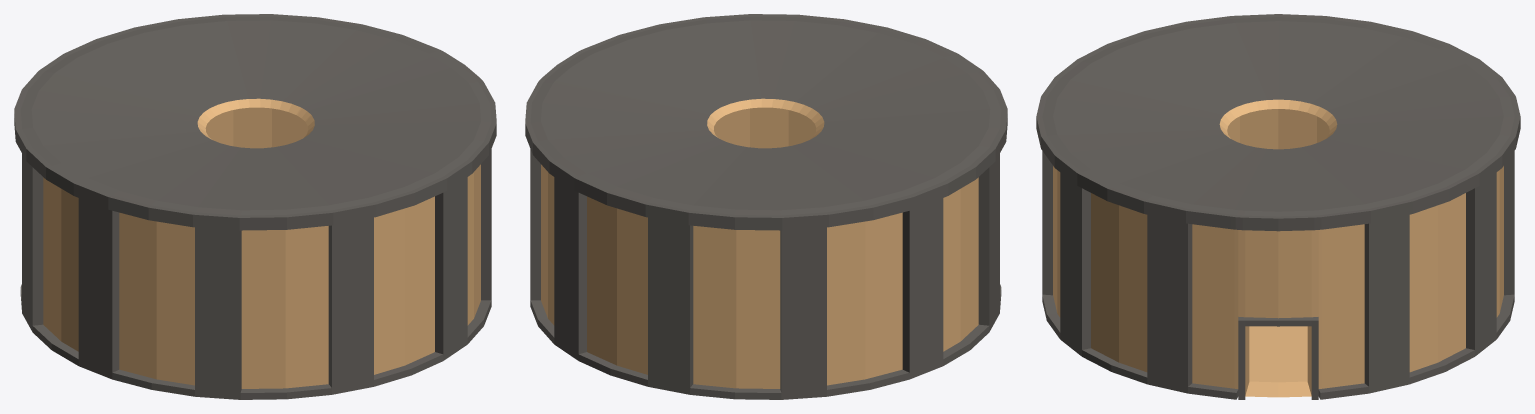
The model's file is Caseta Experiencia.fbx.
3 renders of one model, left to right at view 1: azimuth 30°, elevation 25°; view 2: azimuth 150°, elevation 25°; view 3: azimuth 270°, elevation 25°, orthographic.
Visible parts, largest first — view 1: Cylinder.001; view 2: Cylinder.001; view 3: Cylinder.001.
Boxes of the visible parts, x1,y1,x2,y2 form: Cylinder.001: (14,14,496,399); Cylinder.001: (525,14,1007,399); Cylinder.001: (1036,14,1520,399).
Bounding box in the file's own units: 21.84 × 9.25 × 21.84.
